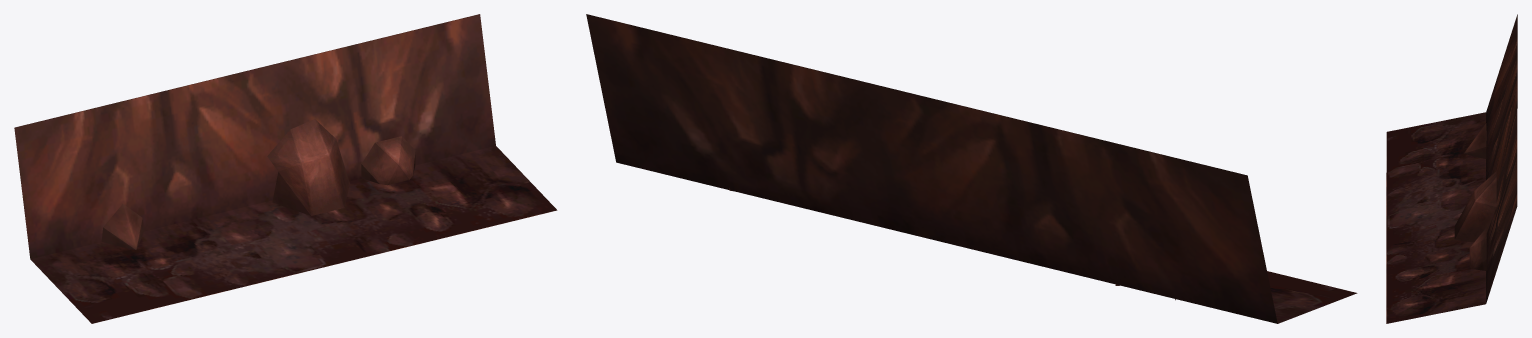
The model's file is lava_trim_straight_02.fbx.
The picture shows the model from 3 angles, left to right: view 1: azimuth 30°, elevation 25°; view 2: azimuth 150°, elevation 25°; view 3: azimuth 270°, elevation 25°; orthographic projection. The views are drawn at different scales.
Visible parts, largest first — view 1: obj1.026; view 2: obj1.026; view 3: obj1.026.
Boxes of the visible parts, box(x1,y1,x2,y2) form: obj1.026: box(14, 14, 557, 323); obj1.026: box(586, 14, 1357, 323); obj1.026: box(1386, 14, 1517, 323).
Size of the model in its own units: 4.02 by 1.15 by 1.15.
